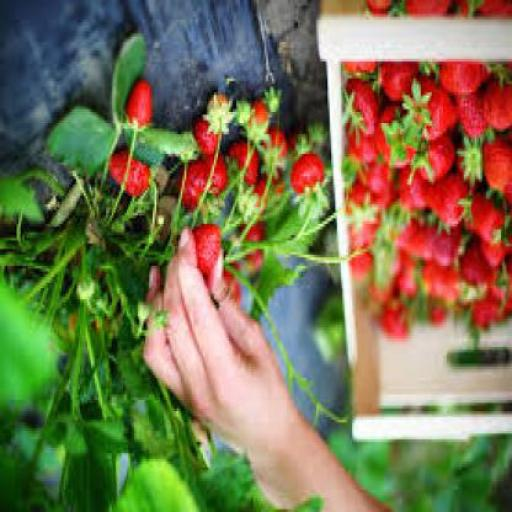biodegradable: (0, 184, 107, 510), (378, 442, 509, 511), (109, 462, 245, 510), (104, 238, 143, 403), (43, 107, 112, 179), (109, 459, 202, 511), (106, 406, 186, 456), (175, 153, 225, 230), (398, 78, 452, 148), (110, 36, 144, 138), (252, 258, 303, 324), (414, 174, 472, 232), (268, 204, 324, 260), (352, 198, 406, 255), (284, 154, 326, 224), (372, 104, 414, 174), (123, 132, 192, 174), (406, 134, 451, 187), (106, 148, 149, 202), (314, 288, 340, 374), (224, 137, 256, 201), (343, 84, 377, 142), (471, 199, 510, 249), (365, 248, 397, 308), (481, 137, 510, 199), (285, 124, 322, 170), (418, 268, 460, 308), (376, 65, 413, 109), (123, 78, 150, 135), (482, 84, 510, 138), (259, 126, 286, 182), (188, 230, 218, 280), (454, 134, 480, 191), (456, 98, 488, 142), (437, 67, 482, 98), (458, 252, 487, 299), (346, 185, 372, 232), (380, 302, 409, 344), (192, 115, 219, 159), (396, 258, 421, 304), (204, 95, 229, 140), (235, 229, 262, 269), (431, 232, 458, 271), (346, 131, 374, 168), (244, 101, 266, 148), (360, 162, 387, 199), (398, 179, 424, 216), (400, 2, 449, 20), (477, 249, 510, 274), (406, 232, 432, 263), (490, 266, 509, 308), (467, 2, 510, 20), (263, 170, 281, 212), (417, 300, 443, 326), (224, 266, 240, 308), (341, 64, 375, 81), (394, 218, 412, 250), (350, 252, 369, 280), (470, 306, 489, 332), (261, 90, 279, 117), (233, 101, 251, 128), (364, 2, 390, 20), (486, 305, 510, 324)
